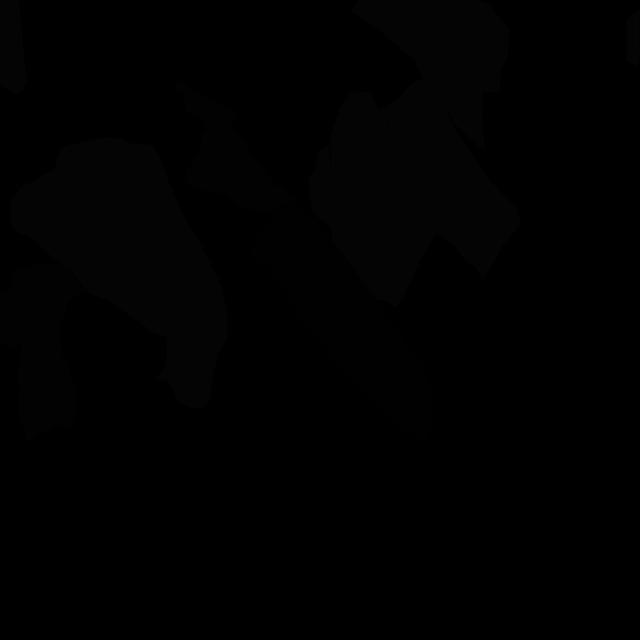cardboard: (173, 80, 298, 215), (0, 263, 87, 439)
rigid_plastic: (250, 200, 434, 445)
soft_plastic: (9, 137, 228, 408), (330, 92, 486, 308), (380, 80, 521, 281), (352, 0, 509, 152), (308, 146, 396, 308), (626, 9, 640, 67)
